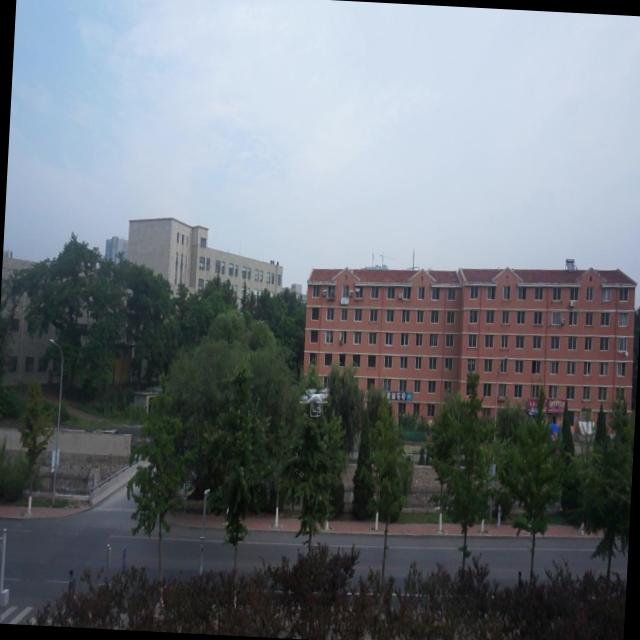drone: (300, 380, 332, 422)
